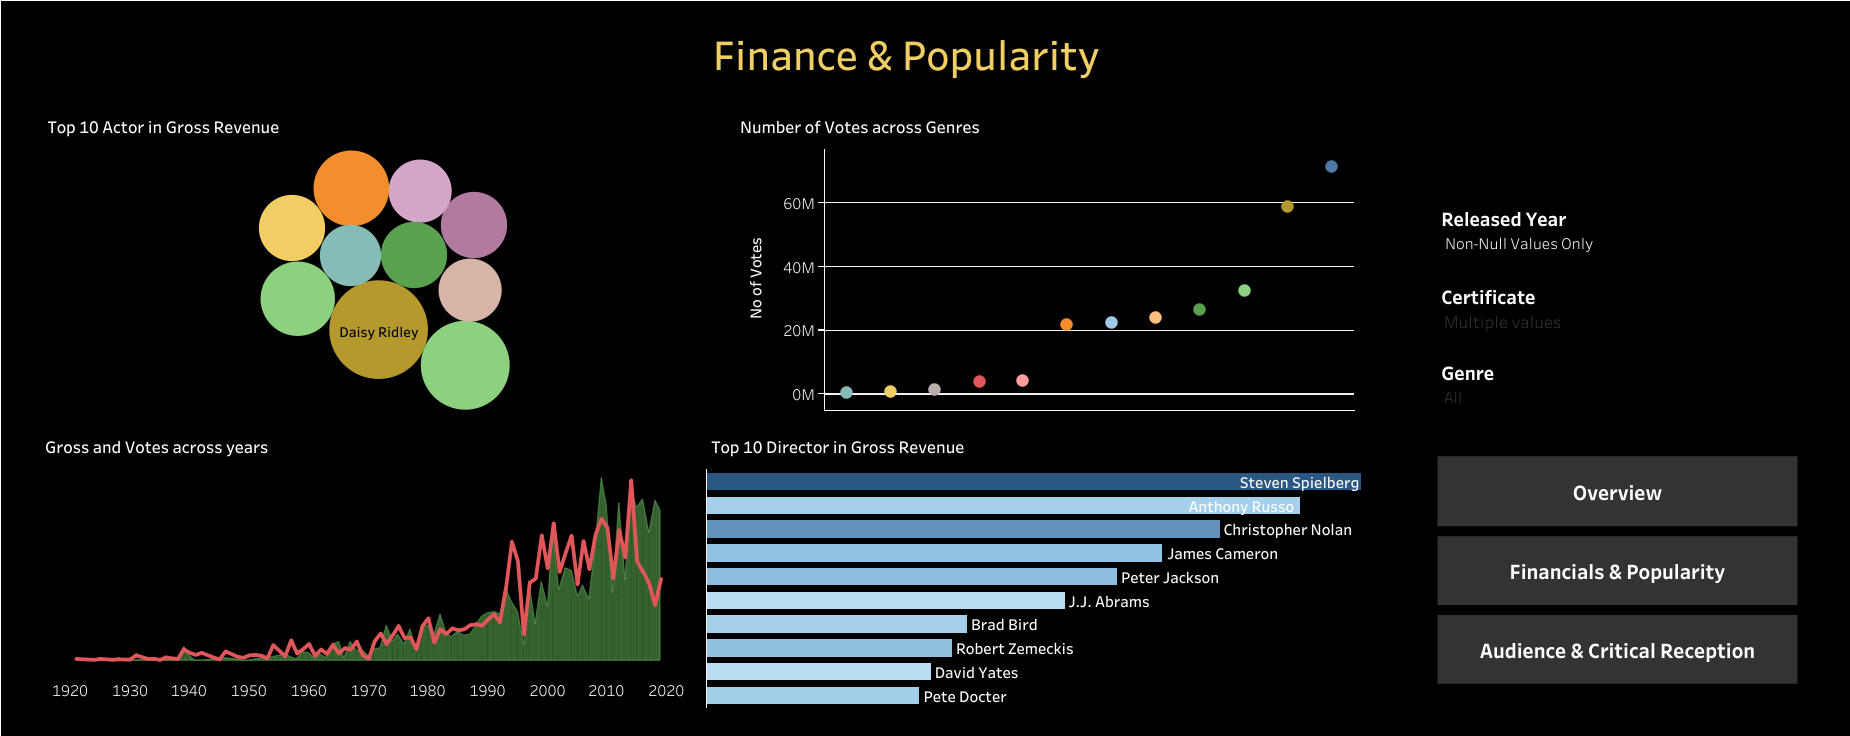

The dashboard page shown, as its layout file describes it:
{"tool":"tableau","page":{"name":"Financials & Popularity","canvas":[1000,1000],"units":"permille","ordinal":0},"visuals":[{"type":"worksheet","title":"year_filter","mark":"Automatic","box":[10.8,130.9,161.7,108.5]},{"type":"filter","title":"year_filter","param":"[federated.1eyr98r086vg6k12vvkg207lsm0p].[none:Released_Year:qk]","box":[13.3,140.9,155.8,92.3]},{"type":"worksheet","title":"certificate_filter","mark":"Automatic","box":[188.3,140.9,157.5,81]},{"type":"filter","title":"genre_filter","param":"[federated.1eyr98r086vg6k12vvkg207lsm0p].[none:Genre - Split 1:nk]","box":[373.3,142.1,126.7,73.6]},{"type":"filter","title":"certificate_filter","param":"[federated.1eyr98r086vg6k12vvkg207lsm0p].[none:Certificate:nk]","box":[194.2,144.6,145.8,69.8]},{"type":"worksheet","title":"genre_filter","mark":"Automatic","box":[837.5,341.7,150,64.8]}]}

Visuals, with their boxes on the dashboard's canvas, which has no fixed pixel size, in thousandths of its width and height (x1, y1, x2, y2). These are canvas units, not pixel positions in the 1850x736 screenshot, which may show the page scaled, cropped or inside an application window:
"year_filter" worksheet: bbox=(11, 131, 172, 239)
"year_filter" filter: bbox=(13, 141, 169, 233)
"certificate_filter" worksheet: bbox=(188, 141, 346, 222)
"genre_filter" filter: bbox=(373, 142, 500, 216)
"certificate_filter" filter: bbox=(194, 145, 340, 214)
"genre_filter" worksheet: bbox=(838, 342, 988, 406)
